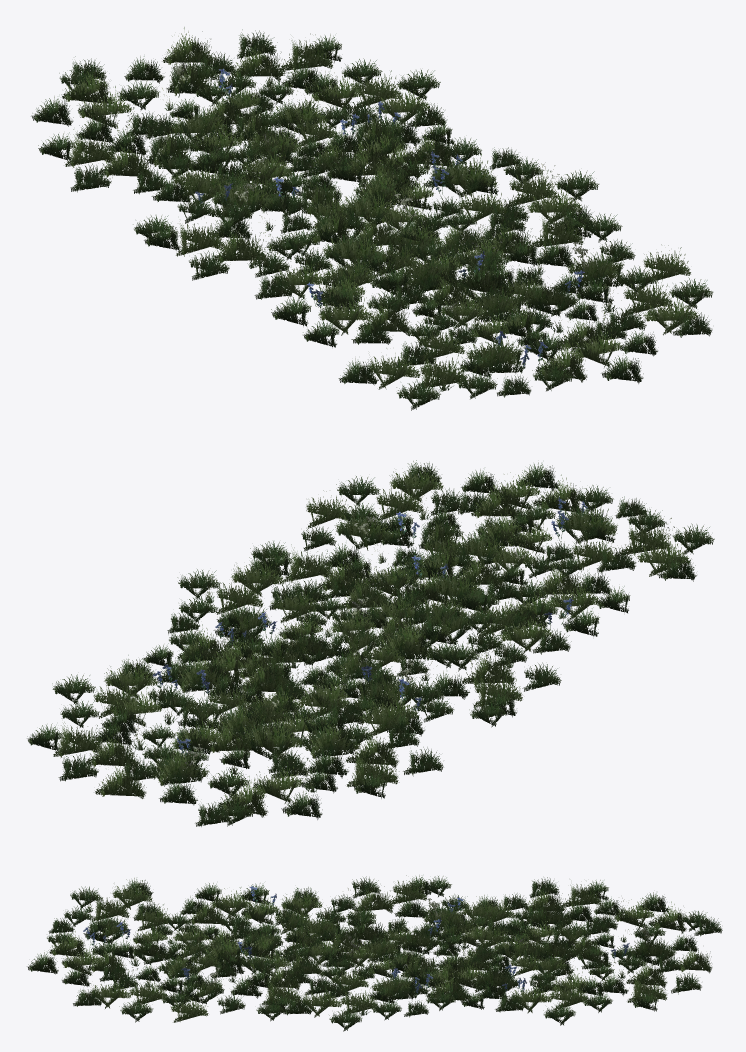
The model's file is ah_grass_512x1024_001.glb.
3 views of the same model, one above another, from view 1: azimuth 30°, elevation 25°; view 2: azimuth 150°, elevation 25°; view 3: azimuth 270°, elevation 25° (orthographic). The views are drawn at different scales.
Parts seen in each view (by area): view 1: 0_ah_foliage_sheet001; view 2: 0_ah_foliage_sheet001; view 3: 0_ah_foliage_sheet001.
Boxes of the visible parts, x1=… form: 0_ah_foliage_sheet001: x1=31, y1=27, x2=713, y2=410; 0_ah_foliage_sheet001: x1=27, y1=460, x2=714, y2=826; 0_ah_foliage_sheet001: x1=27, y1=875, x2=722, y2=1031.
Bounding box in the file's own units: 13.9 × 1.7 × 26.82.
1 material, 1 textured.
